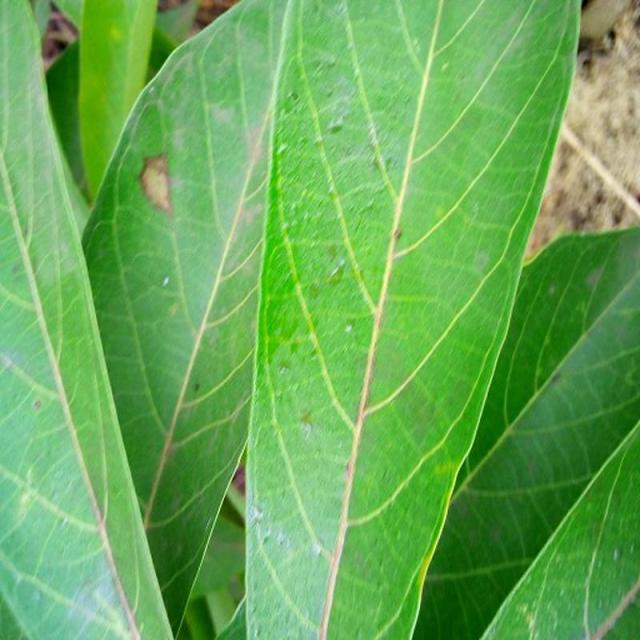cassava leaf: (77, 0, 586, 638), (0, 0, 175, 639)
